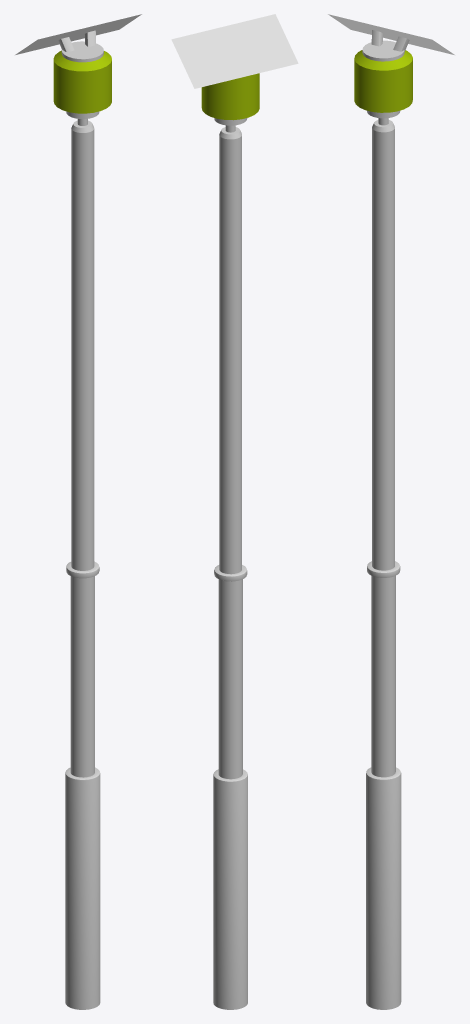
File: SolarAsset03_Lamppost.fbx
The picture shows the model from 3 angles, left to right: view 1: azimuth 30°, elevation 25°; view 2: azimuth 210°, elevation 25°; view 3: azimuth 330°, elevation 25°; orthographic projection.
Visible parts, largest first — view 1: Cylinder016, Plane006; view 2: Cylinder016, Plane006; view 3: Cylinder016, Plane006.
Boxes of the visible parts, bbox=[...] form: Cylinder016: bbox=[53, 41, 111, 1009]; Plane006: bbox=[15, 14, 141, 54]; Cylinder016: bbox=[201, 73, 259, 1009]; Plane006: bbox=[171, 14, 298, 88]; Cylinder016: bbox=[354, 40, 412, 1009]; Plane006: bbox=[328, 14, 454, 54].
Size of the model in its own units: 29.99 by 268 by 15.99.
